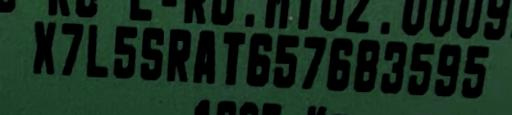letter: (431, 40, 463, 97), (459, 43, 491, 100), (324, 35, 354, 92), (378, 38, 408, 95), (406, 38, 434, 99), (271, 32, 299, 91), (165, 26, 193, 83), (245, 31, 273, 88), (300, 35, 328, 92), (353, 35, 379, 96), (58, 19, 84, 76), (111, 23, 137, 80), (139, 25, 165, 82), (192, 28, 218, 85), (220, 30, 246, 85), (32, 17, 56, 74), (84, 21, 108, 76)
